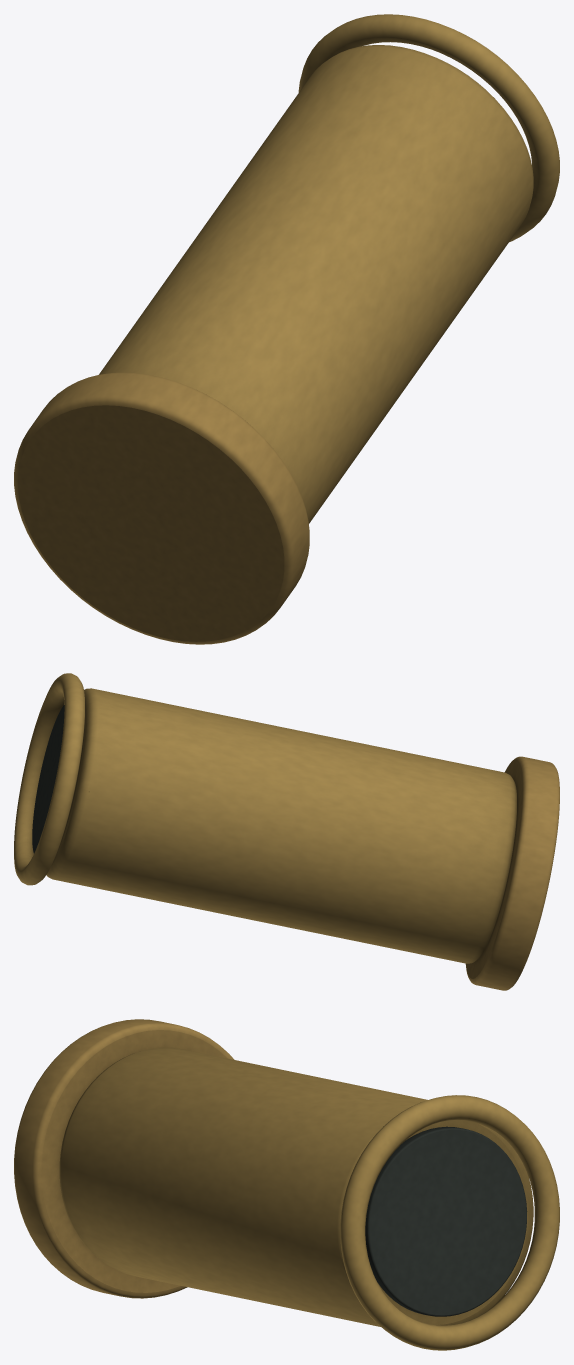
3 renders of one model, top to bottom at view 1: azimuth 30°, elevation 25°; view 2: azimuth 150°, elevation 25°; view 3: azimuth 270°, elevation 25°, orthographic. The views are drawn at different scales.
Parts seen in each view (by area): view 1: Drawn case body; view 2: Drawn case body; view 3: Drawn case body.
Part boxes in pixels (bbox=[...]): Drawn case body: bbox=[14, 14, 559, 644]; Drawn case body: bbox=[14, 673, 559, 990]; Drawn case body: bbox=[14, 1019, 559, 1350].
Bounding box in the file's own units: 1.26 × 0.8033 × 1.08.
Materials: 1 (1 with a texture image).
